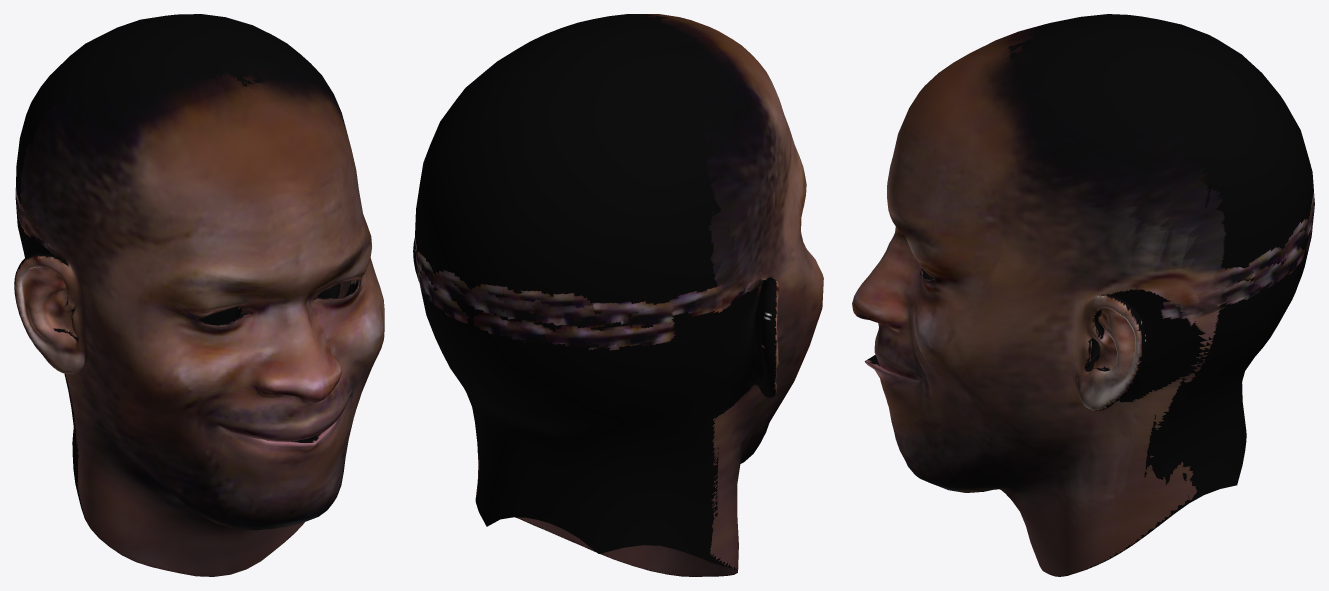
The model's file is Smile.obj.
3 renders of one model, left to right at view 1: azimuth 30°, elevation 25°; view 2: azimuth 150°, elevation 25°; view 3: azimuth 270°, elevation 25°, orthographic. The views are drawn at different scales.
Size of the model in its own units: 191 by 281 by 223.
